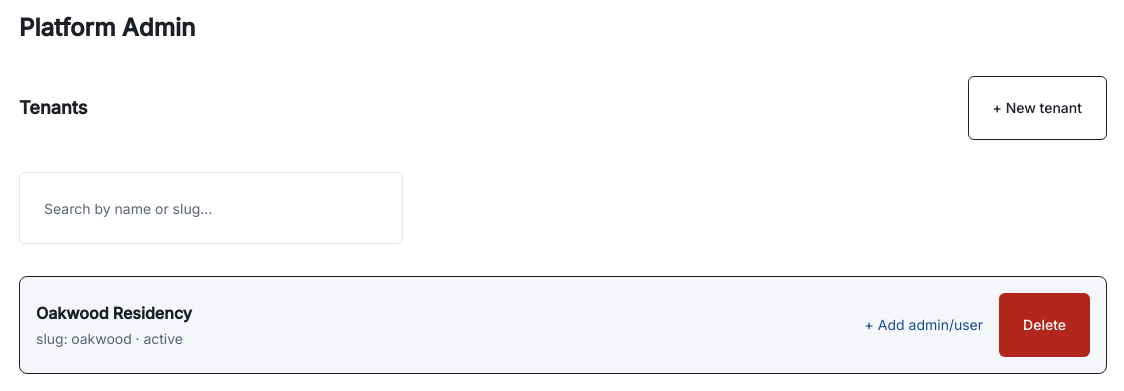
Test: TenantList › search shows empty-state message when no tenants match
The image size is (1124, 391).
Type "zzz" into the field named "search tenants" at (211, 208), box [19, 172, 403, 244]
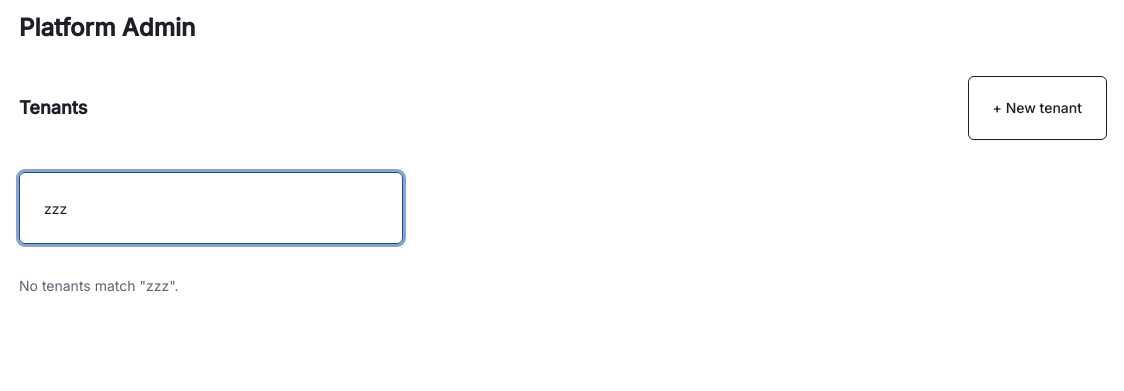
Expected: the text "No tenants match \"zzz\"." is shown, [19, 277, 179, 294]
